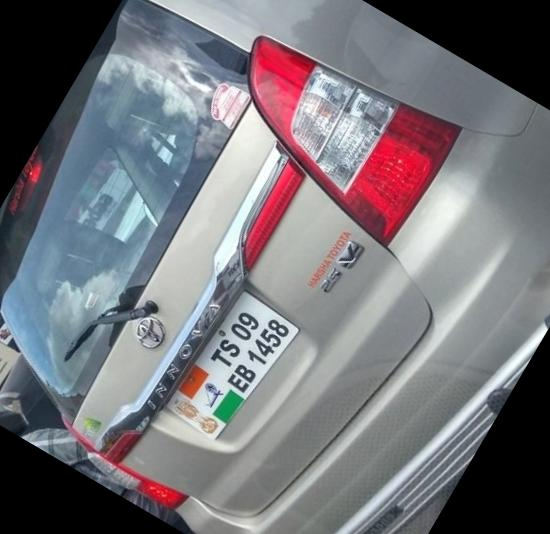plate: (147, 270, 318, 453)
